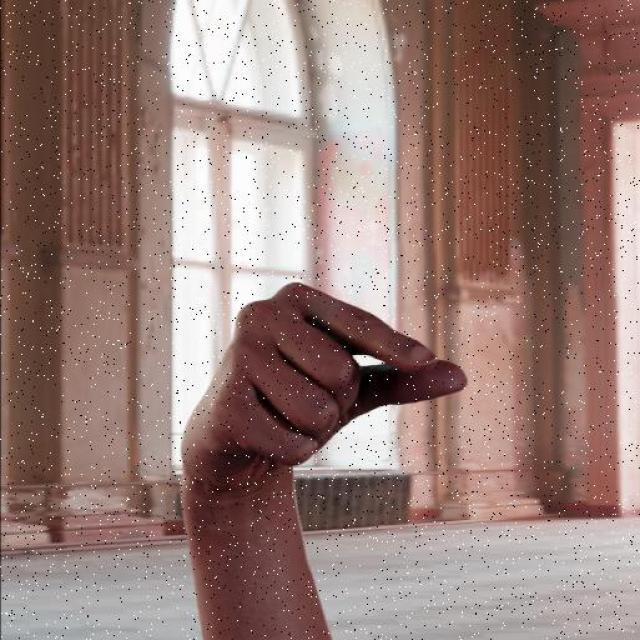Q: (174, 276, 473, 494)
